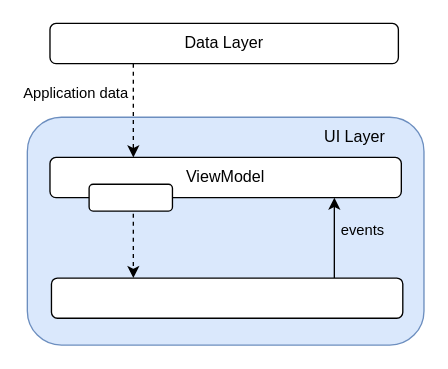
The diagram is 448 pixels wide and 369 high, and some of its shapes have lost their labels. The centre of each missing label's shape, as x and y in pixels:
"UI elements" goes at pixel 226 297.
"UI state" goes at pixel 130 197.
